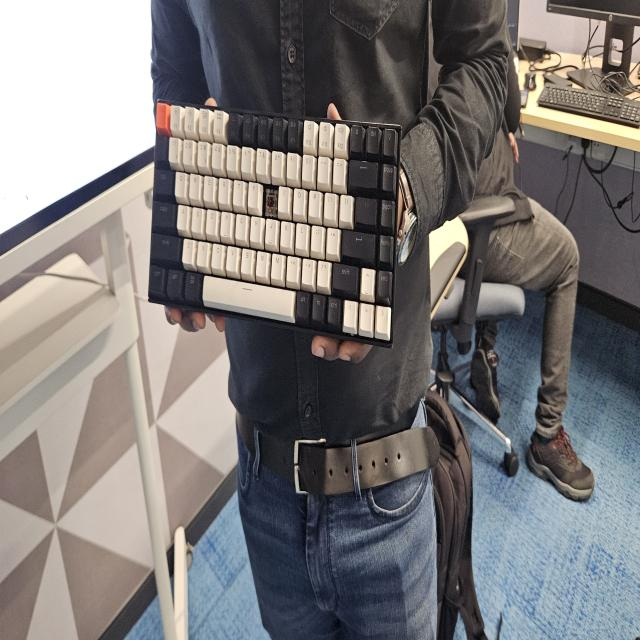C: (264, 187, 276, 216)
